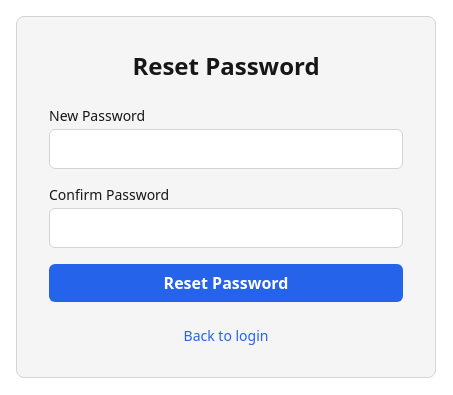
Test: ResetPasswordPage › shows success message and redirects on successful reset
The image size is (453, 395).
Type "newpassword123" into the password field labelled "New Password" at point(226, 149), box [49,129,403,169]
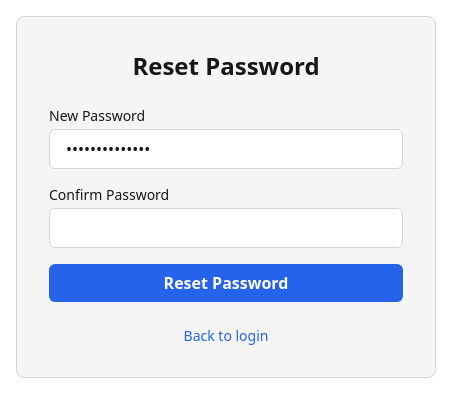
Type "newpassword123" into the password field labelled "Confirm Password" at point(226, 228), box [49,208,403,248]
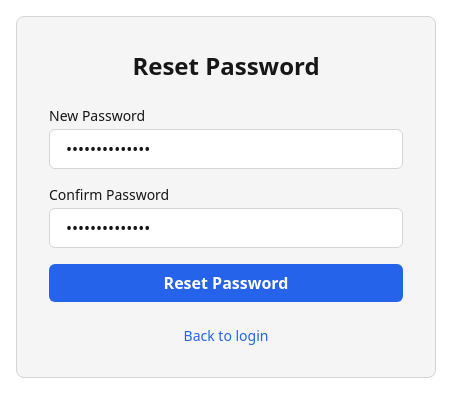
Click the button "Reset Password" at point(226, 283), box [49,264,403,302]
Wait 3000 ms
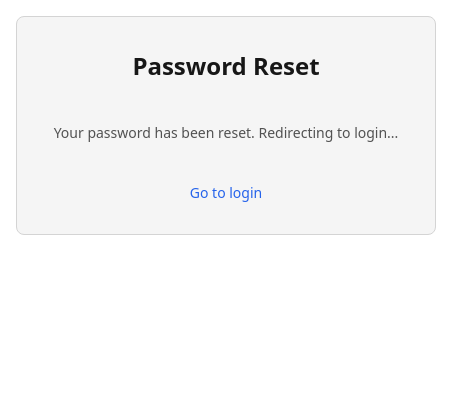
Expected: the text "Your password has been reset. Redirecting to login..." is shown, [54,123,398,142]
